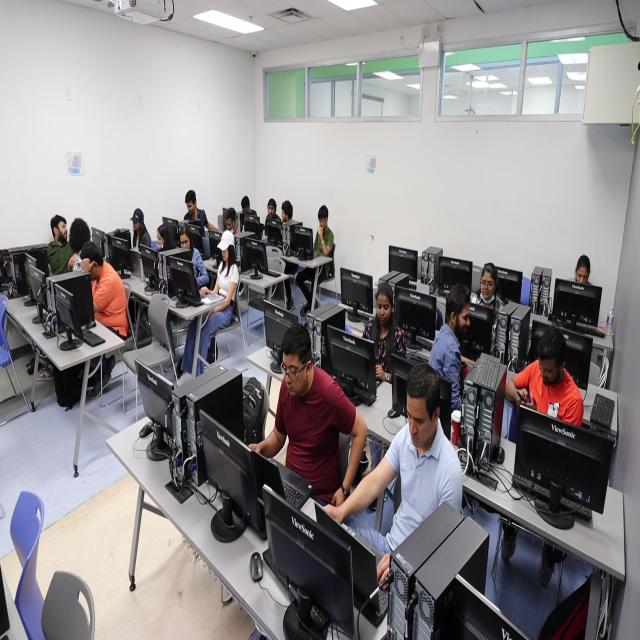Distracted: (406, 391, 431, 448), (281, 351, 306, 396), (538, 351, 560, 388), (454, 297, 471, 337), (480, 269, 495, 302), (376, 294, 392, 324), (576, 264, 589, 287), (56, 218, 68, 242), (180, 234, 190, 252), (156, 230, 166, 247), (186, 199, 196, 215), (318, 215, 328, 230), (226, 216, 234, 232), (220, 246, 228, 262), (267, 204, 275, 219), (281, 207, 289, 222), (132, 218, 140, 231)
